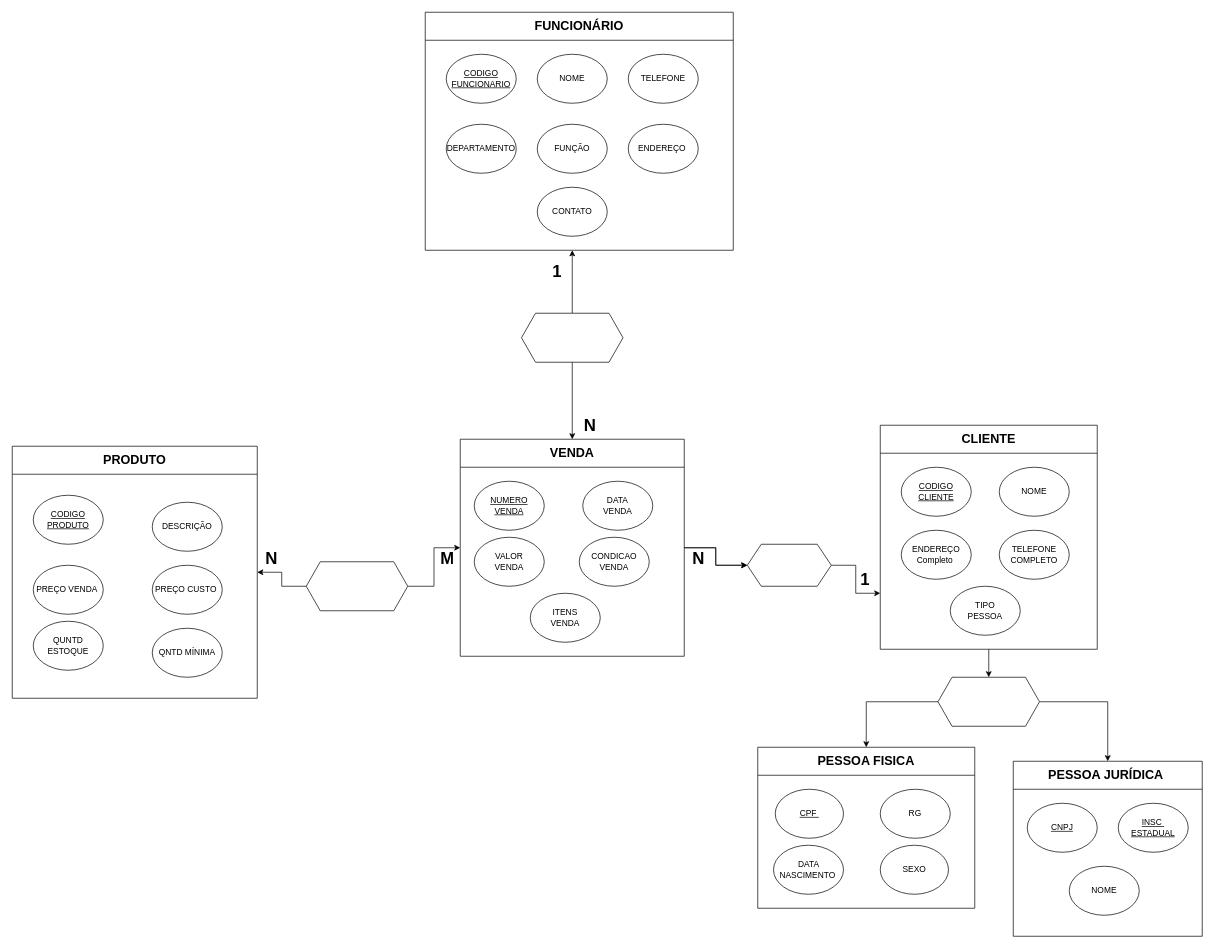
The diagram is 1215 pixels wide and 949 high, and some of its shapes have lost their labels. Each missing label, with the centre of its shape:
"CONJUNTO" belongs at pixel 357 586.
"FAZ" belongs at pixel 572 337.
"T / D" belongs at pixel 988 701.
"TEM" belongs at pixel 789 565.
